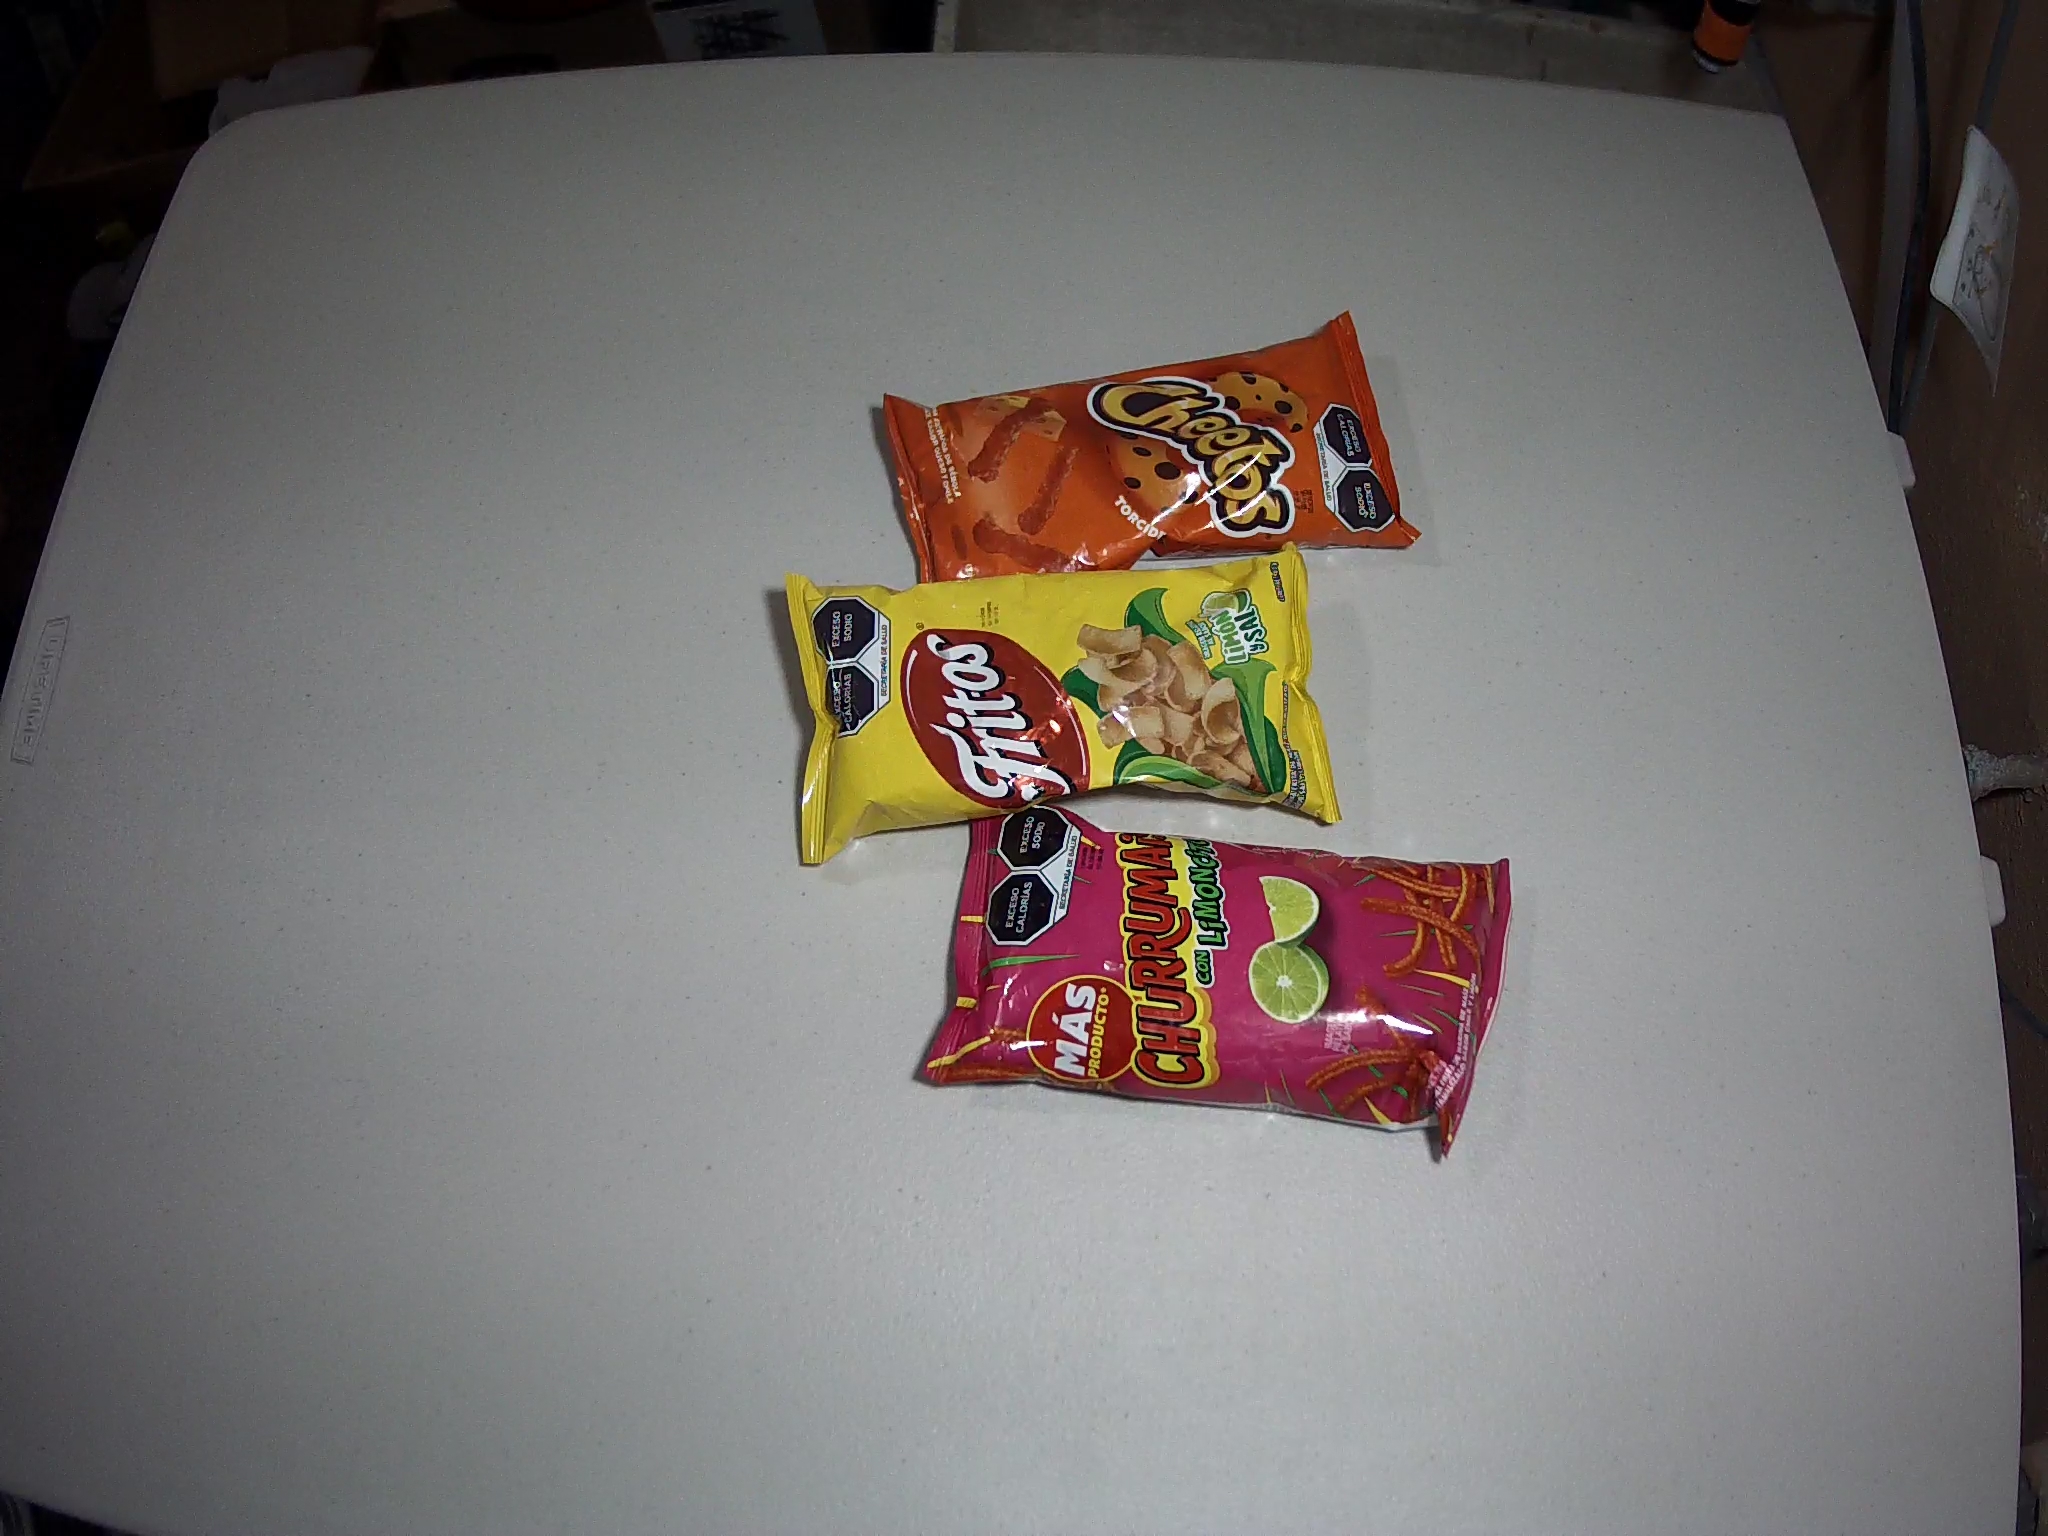CheetosTorciditos_55_F: (880, 310, 1417, 618)
Churrumais_70_F: (921, 776, 1516, 1157)
FritosSalLimon_65_F: (784, 541, 1342, 866)
